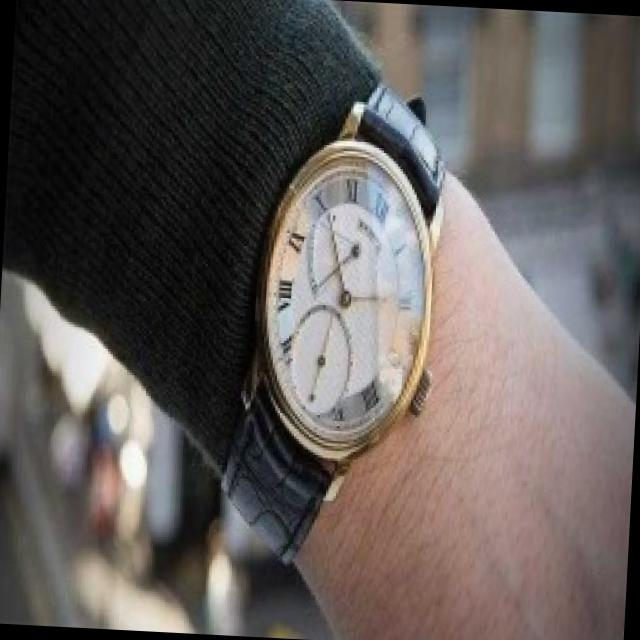saat: (206, 59, 484, 611)
